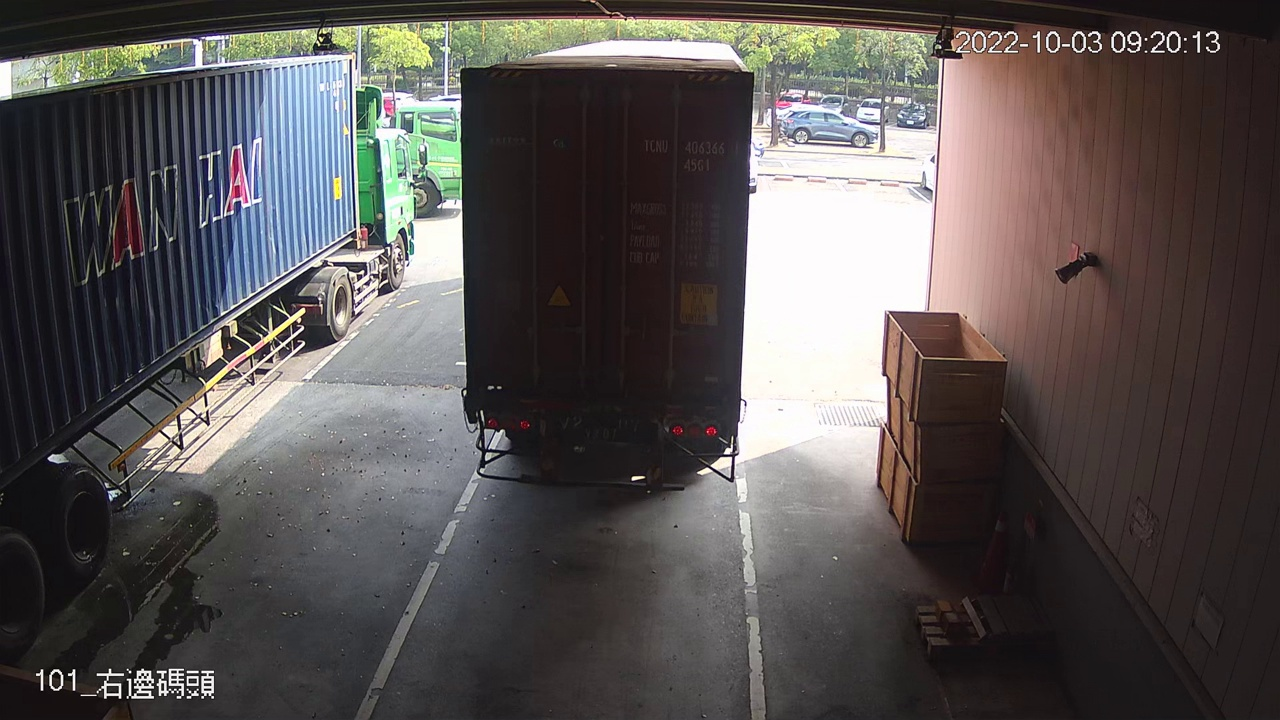container: (640, 134, 745, 174)
